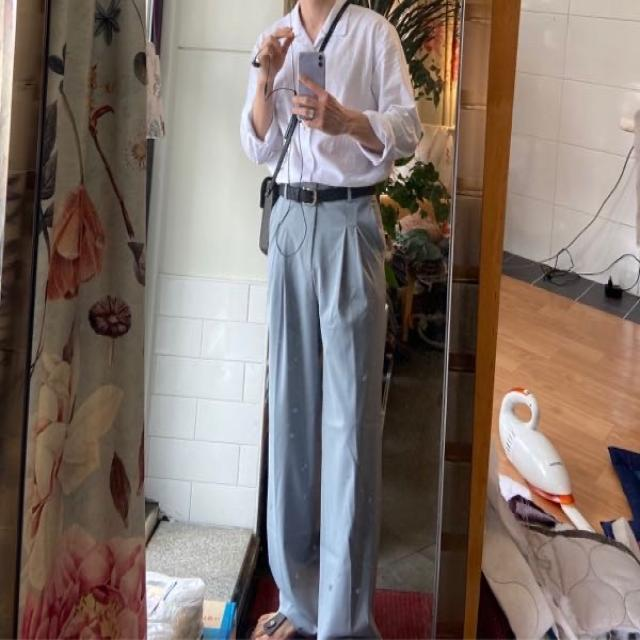shirt: (242, 0, 416, 190)
slacks: (263, 191, 385, 630)
